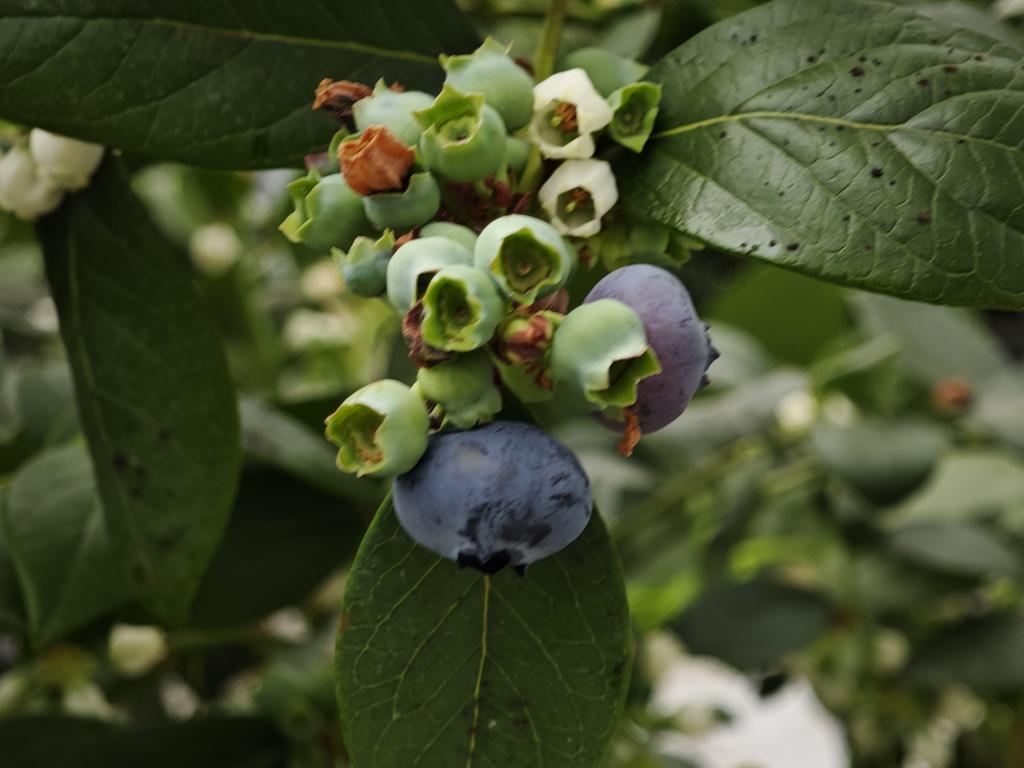RipeBlueBerry: (391, 423, 598, 569)
UnripeBlueBerry: (324, 381, 425, 479)
